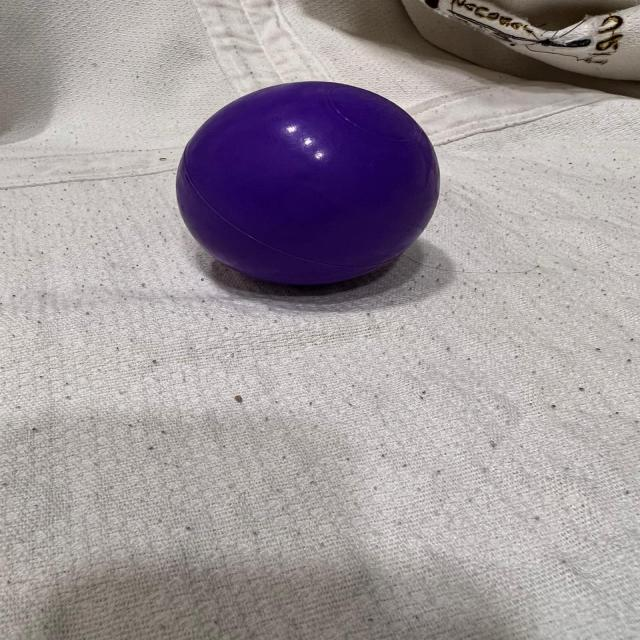ball: (170, 78, 445, 293)
